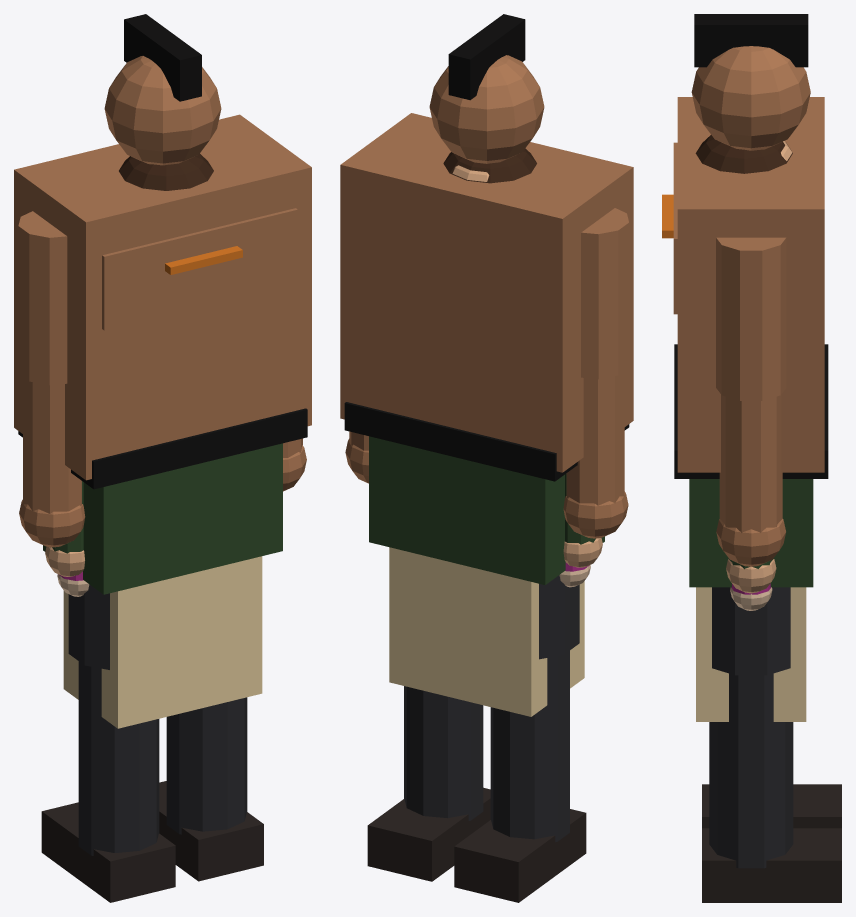
File: figures.glb
3 views of the same model, side by side, from view 1: azimuth 30°, elevation 25°; view 2: azimuth 150°, elevation 25°; view 3: azimuth 270°, elevation 25° (orthographic). The views are drawn at different scales.
Parts seen in each view (by area): view 1: Torso_Mesh.004, Torso_Mesh.007, Torso_Mesh.006, LegL_Mesh.004, ArmL_Mesh.004, LegR_Mesh.004, Head_Mesh.004, Head_Mesh.006, ArmL_Mesh.006, Head_Mesh.002, ArmR_Mesh.004; view 2: Torso_Mesh.004, Torso_Mesh.007, LegL_Mesh.004, Torso_Mesh.006, LegR_Mesh.004, ArmL_Mesh.004, Head_Mesh.004, Head_Mesh.006, ArmL_Mesh.006, ArmR_Mesh.004; view 3: Torso_Mesh.004, LegR_Mesh.004, ArmR_Mesh.004, Head_Mesh.004, Torso_Mesh.006, Torso_Mesh.007, LegL_Mesh.004, Head_Mesh.006, ArmR_Mesh.006, ArmR_Mesh.007, Head_Mesh.002.
Part boxes in pixels (x1,y1,x2,y2): Torso_Mesh.004: [14, 114, 311, 489]; Torso_Mesh.007: [63, 556, 262, 728]; Torso_Mesh.006: [43, 443, 282, 594]; LegL_Mesh.004: [41, 584, 175, 902]; ArmL_Mesh.004: [18, 211, 85, 547]; LegR_Mesh.004: [159, 697, 263, 881]; Head_Mesh.004: [104, 14, 221, 165]; Head_Mesh.006: [119, 153, 213, 190]; ArmL_Mesh.006: [45, 481, 84, 576]; Head_Mesh.002: [165, 246, 242, 274]; ArmR_Mesh.004: [283, 438, 306, 491]; Torso_Mesh.004: [340, 113, 633, 481]; Torso_Mesh.007: [389, 547, 584, 716]; LegL_Mesh.004: [454, 575, 586, 902]; Torso_Mesh.006: [369, 436, 604, 584]; LegR_Mesh.004: [367, 686, 490, 881]; ArmL_Mesh.004: [563, 208, 629, 538]; Head_Mesh.004: [429, 14, 544, 163]; Head_Mesh.006: [443, 148, 536, 183]; ArmL_Mesh.006: [563, 473, 602, 567]; ArmR_Mesh.004: [345, 431, 368, 483]; Torso_Mesh.004: [673, 97, 828, 478]; LegR_Mesh.004: [702, 587, 841, 902]; ArmR_Mesh.004: [716, 237, 786, 566]; Head_Mesh.004: [691, 14, 810, 150]; Torso_Mesh.006: [689, 479, 813, 587]; Torso_Mesh.007: [696, 587, 806, 721]; LegL_Mesh.004: [702, 784, 841, 828]; Head_Mesh.006: [695, 135, 792, 173]; ArmR_Mesh.006: [726, 558, 776, 593]; ArmR_Mesh.007: [730, 587, 772, 610]; Head_Mesh.002: [662, 194, 673, 238].
Size of the model in its own units: 0.7723 by 2.2 by 0.4235.
